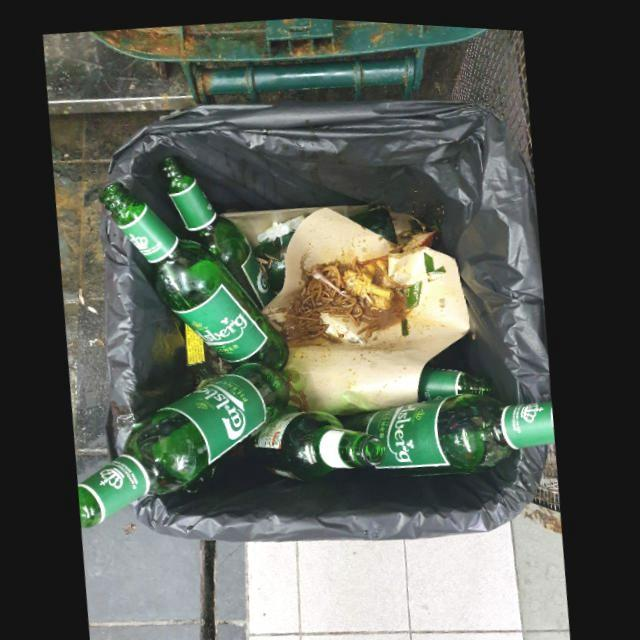cardboard: (264, 204, 472, 407)
glass_bottle: (100, 180, 291, 368), (81, 360, 292, 529), (338, 387, 558, 472), (160, 155, 276, 307), (246, 407, 390, 477), (420, 362, 494, 397)
left_over_food: (288, 253, 396, 335)
